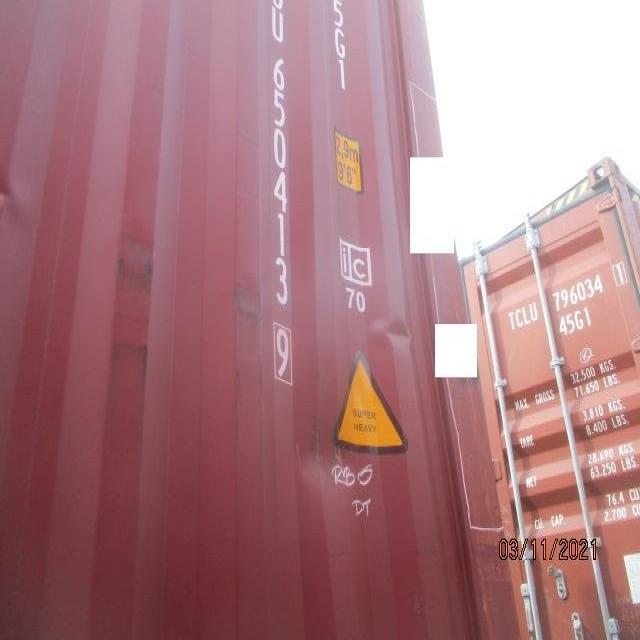Dent: (258, 306, 421, 514)
